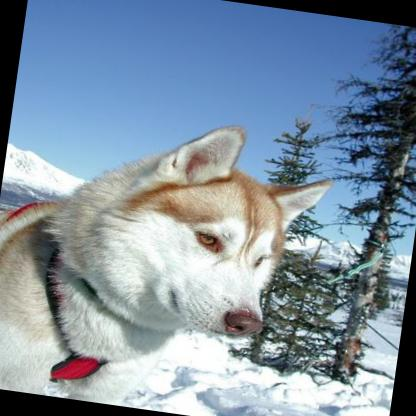Eskimo_dog: (0, 92, 337, 416)
